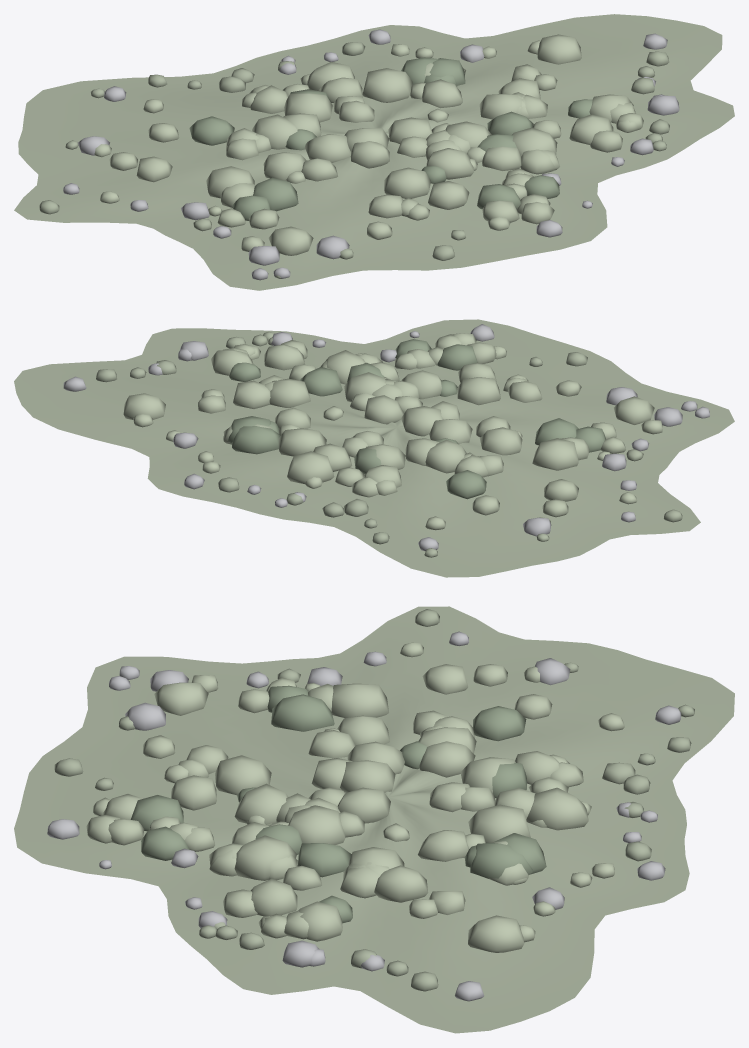
Rendered from SM_MR_Carbon_Accretion_03.fbx.
3 renders of one model, top to bottom at view 1: azimuth 30°, elevation 25°; view 2: azimuth 150°, elevation 25°; view 3: azimuth 270°, elevation 25°, orthographic. The views are drawn at different scales.
Parts seen in each view (by area): view 1: SM_MR_Carbon_Accretion_03; view 2: SM_MR_Carbon_Accretion_03; view 3: SM_MR_Carbon_Accretion_03.
Boxes of the visible parts, left/top/right/bottom form: SM_MR_Carbon_Accretion_03: left=14, top=14, right=734, bottom=290; SM_MR_Carbon_Accretion_03: left=14, top=319, right=734, bottom=577; SM_MR_Carbon_Accretion_03: left=14, top=606, right=734, bottom=1033.
Size of the model in its own units: 1.31 by 0.9317 by 0.0635.
